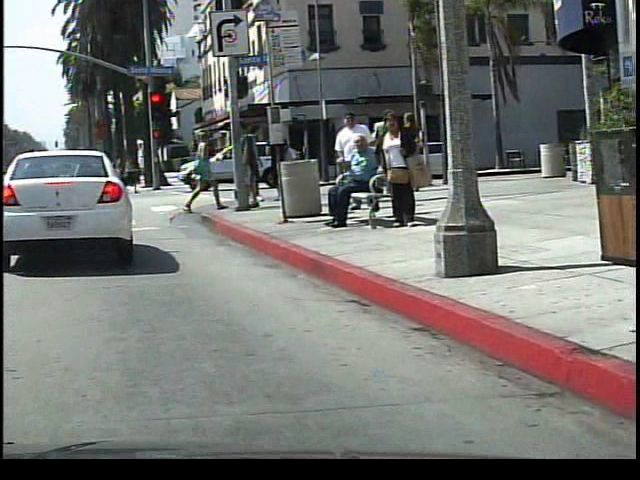person: (319, 136, 385, 232), (374, 113, 418, 234), (185, 127, 226, 218), (119, 150, 144, 196)
